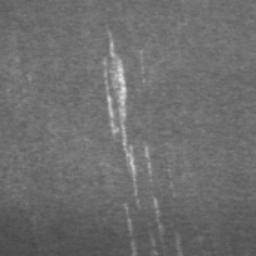White rust: (102, 30, 140, 205), (149, 196, 166, 256), (123, 203, 138, 256), (144, 145, 153, 181), (139, 49, 146, 84), (175, 233, 184, 256)
